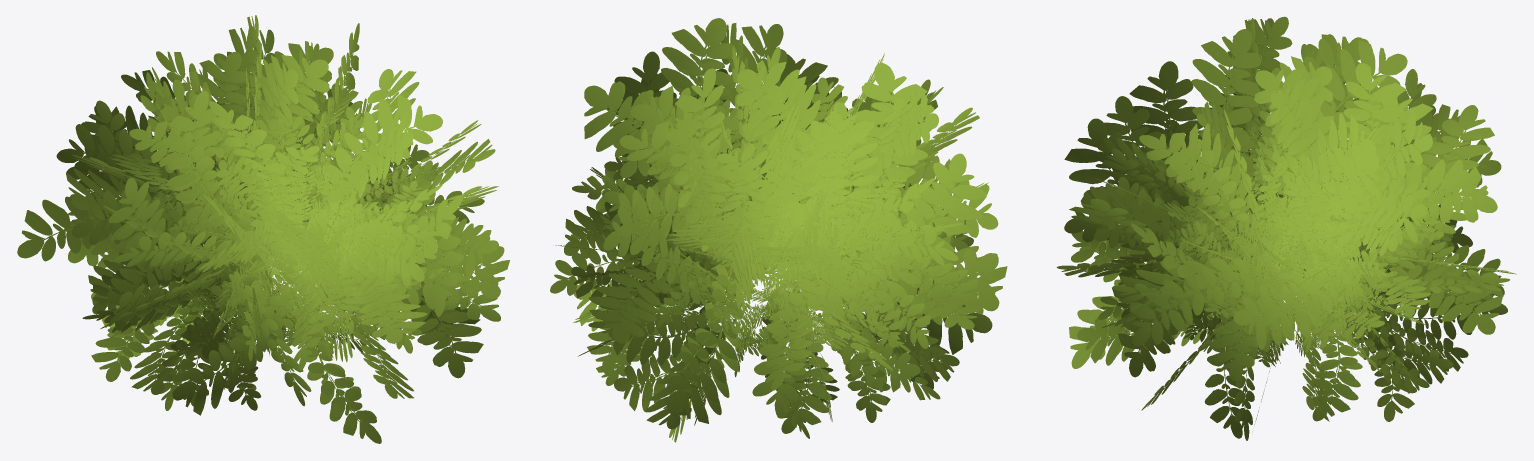
The model's file is Bush.FBX.
3 renders of one model, left to right at view 1: azimuth 30°, elevation 25°; view 2: azimuth 150°, elevation 25°; view 3: azimuth 270°, elevation 25°, orthographic. The views are drawn at different scales.
Parts seen in each view (by area): view 1: Bush_High, Bush_low, Bush_Middle; view 2: Bush_High, Bush_low, Bush_Middle; view 3: Bush_High, Bush_low, Bush_Middle.
Part boxes in pixels (x1=…): Bush_High: x1=18, y1=21, x2=506, y2=442; Bush_low: x1=17, y1=15, x2=509, y2=443; Bush_Middle: x1=107, y1=51, x2=325, y2=395; Bush_High: x1=550, y1=19, x2=1003, y2=440; Bush_low: x1=564, y1=18, x2=1007, y2=438; Bush_Middle: x1=555, y1=76, x2=959, y2=442; Bush_High: x1=1058, y1=17, x2=1514, y2=440; Bush_low: x1=1056, y1=16, x2=1516, y2=440; Bush_Middle: x1=1104, y1=68, x2=1501, y2=421.
Size of the model in its own units: 508 by 424 by 517.
